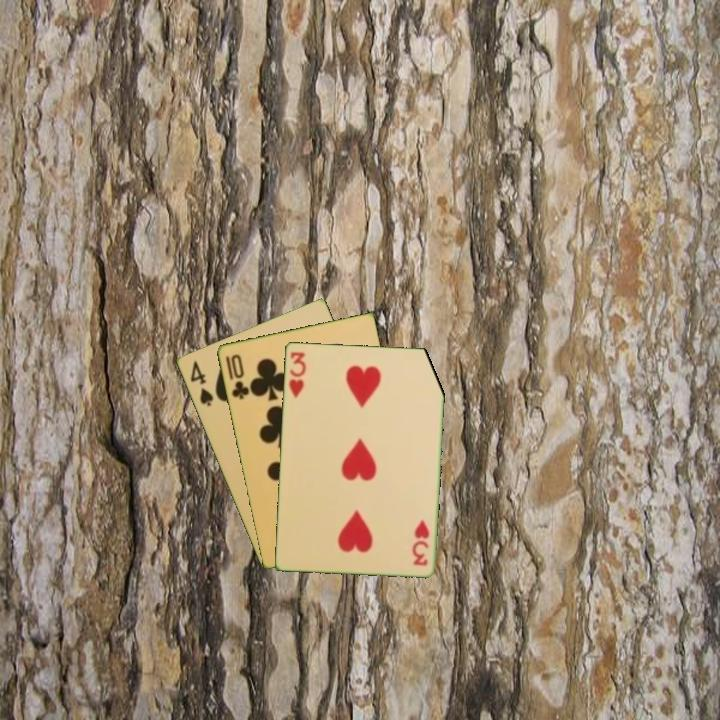10c: (222, 350, 252, 402)
3h: (285, 348, 308, 400), (409, 516, 432, 568)
4s: (186, 357, 216, 409)
